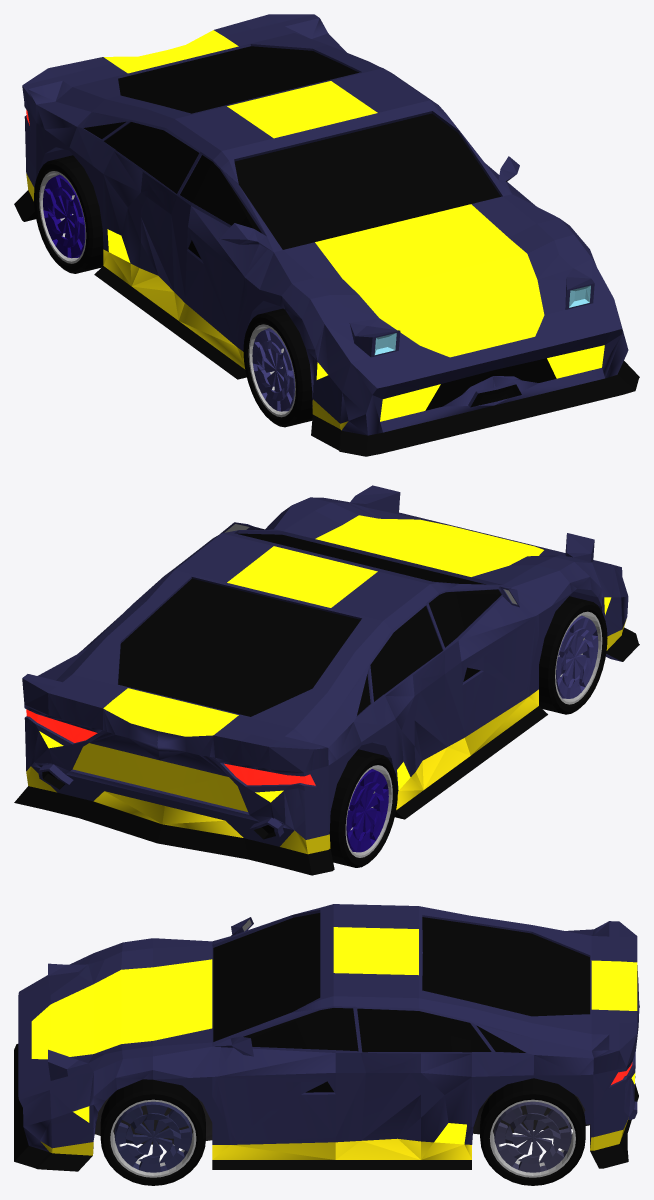
The picture shows the model from 3 angles, top to bottom: view 1: azimuth 30°, elevation 25°; view 2: azimuth 150°, elevation 25°; view 3: azimuth 270°, elevation 25°; orthographic projection. The views are drawn at different scales.
Parts seen in each view (by area): view 1: carro, tire, tire.001, calo.002, calo.003; view 2: carro, tire.001, tire, calo.003, calo.002; view 3: carro, tire.003, tire.002, calo.001, calo.
Part boxes in pixels (x1=…): carro: x1=14, y1=14, x2=639, y2=456; tire: x1=34, y1=155, x2=103, y2=273; tire.001: x1=243, y1=308, x2=312, y2=427; calo.002: x1=252, y1=328, x2=294, y2=411; calo.003: x1=43, y1=174, x2=85, y2=258; carro: x1=14, y1=485, x2=639, y2=875; tire.001: x1=539, y1=596, x2=607, y2=714; tire: x1=329, y1=749, x2=397, y2=867; calo.003: x1=346, y1=769, x2=388, y2=852; calo.002: x1=556, y1=615, x2=598, y2=698; carro: x1=14, y1=904, x2=639, y2=1171; tire.003: x1=480, y1=1078, x2=585, y2=1185; tire.002: x1=100, y1=1079, x2=205, y2=1185; calo.001: x1=494, y1=1101, x2=571, y2=1172; calo: x1=114, y1=1101, x2=192, y2=1172.
Size of the model in its own units: 225 by 130 by 433.
